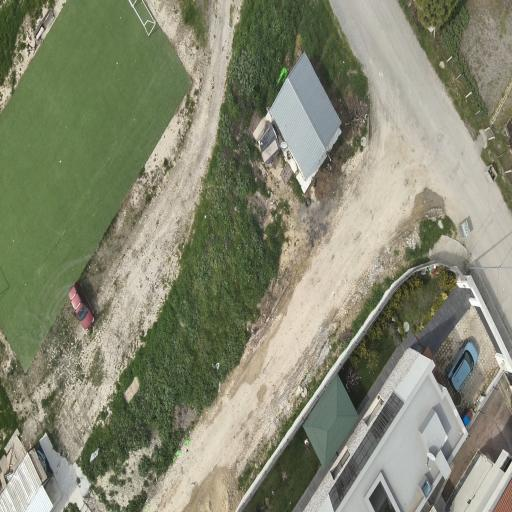car: (448, 339, 478, 391), (69, 282, 94, 329)
